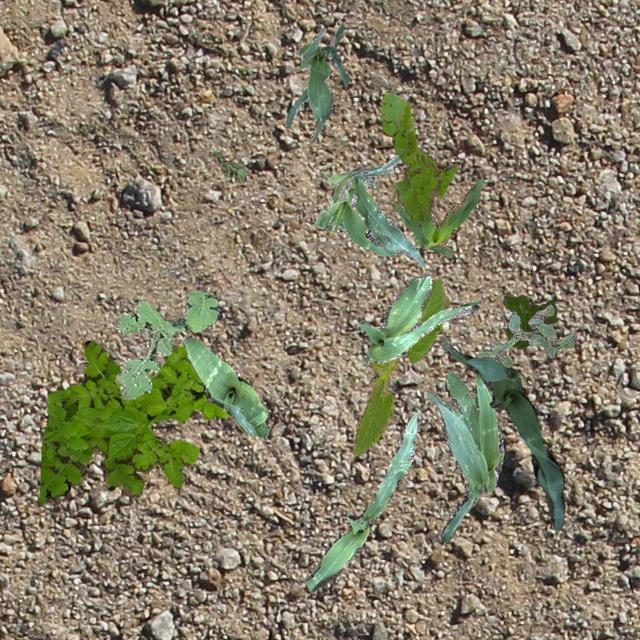crop: (440, 340, 564, 530), (304, 412, 418, 590), (352, 278, 449, 456), (423, 370, 502, 540), (314, 154, 424, 266), (356, 272, 478, 362), (182, 334, 268, 436), (284, 21, 348, 140), (392, 172, 482, 255)
weed: (38, 340, 228, 504), (113, 290, 220, 398), (378, 90, 456, 224), (474, 304, 576, 366), (502, 294, 556, 348), (215, 150, 247, 182)
